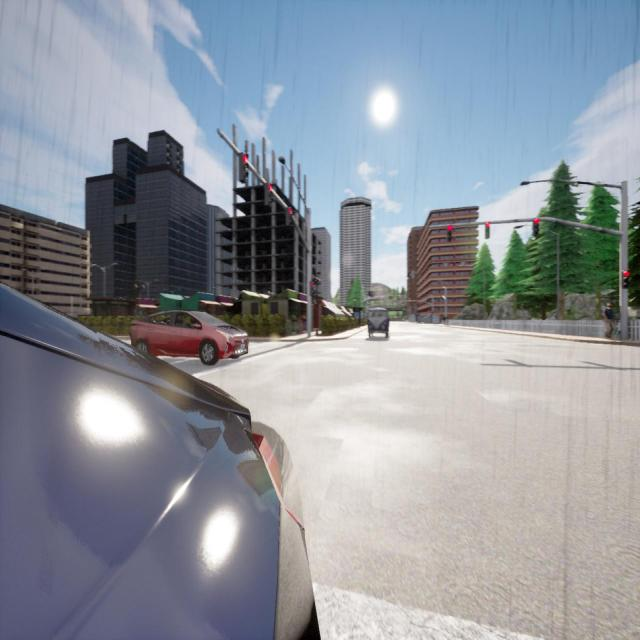Pedestrian: (603, 302, 615, 339)
Vehicle: (0, 285, 318, 637), (129, 310, 249, 364), (367, 307, 389, 338)
traffic_light: (239, 154, 249, 183), (264, 183, 272, 206), (622, 270, 630, 289), (286, 208, 292, 225), (533, 218, 539, 235), (310, 281, 316, 296), (447, 225, 452, 242), (486, 222, 490, 239)
